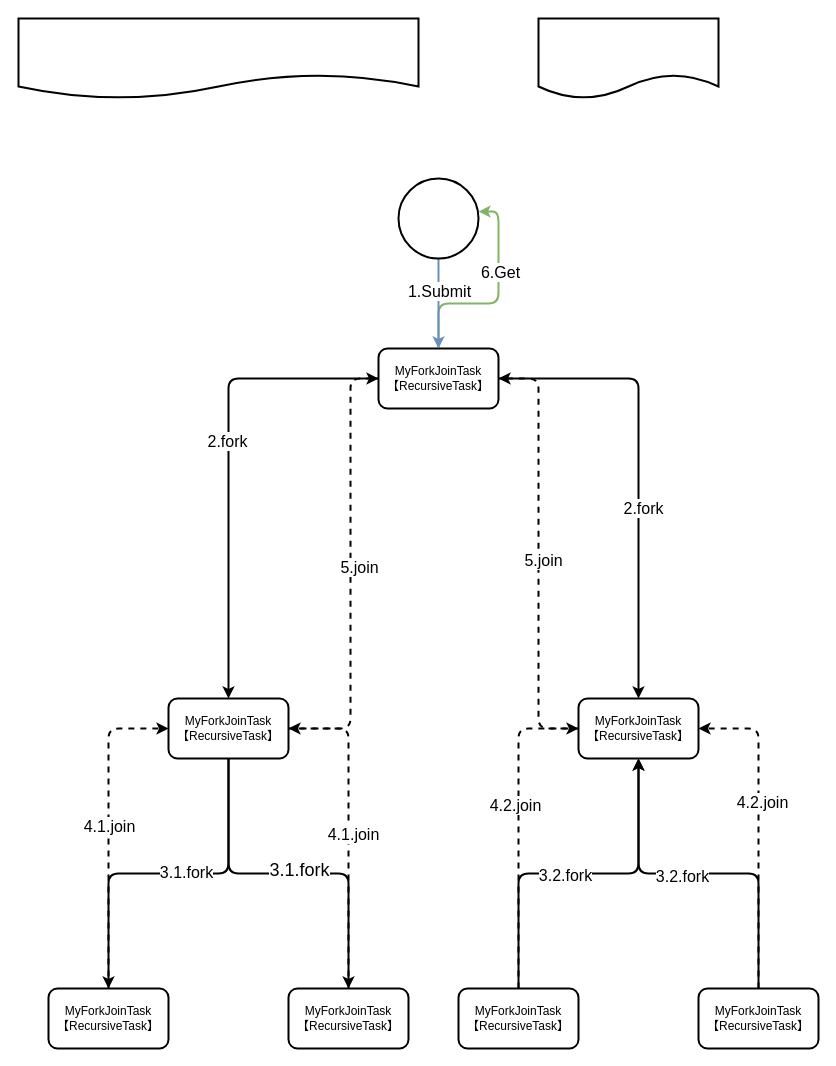
Image size: 836x1066. Some labels were removed from this diagram. The shapes that lost their labels are listed below. From the top down, each one's centre as x and y in pixels, then its label:
At (x=218, y=58): "需要结合给的Demo程序来看： demo程序地址：https://github.com/benbenbo/mdc-mvc-demo.git".
At (x=628, y=58): "fork：拆分子任务 join：合并任务结果".
At (x=438, y=218): "上层程序".
